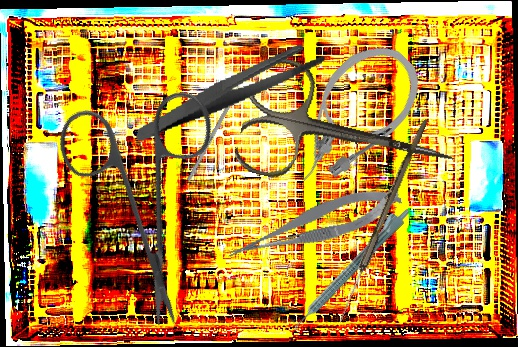Cannula: (264, 29, 437, 201)
Dressing Forceps: (124, 41, 335, 142)
Handpiece: (284, 201, 414, 333)
Iris Scissors: (0, 43, 290, 333), (231, 52, 468, 219)
Micro Scissor: (221, 180, 407, 266)
Pusher: (187, 76, 245, 182)
Surgical Spoon: (336, 117, 428, 325)
